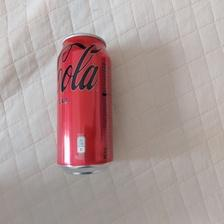Metal: (57, 31, 112, 174)
